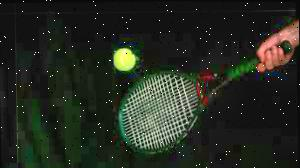Tennis_Ball: (114, 47, 140, 71)
